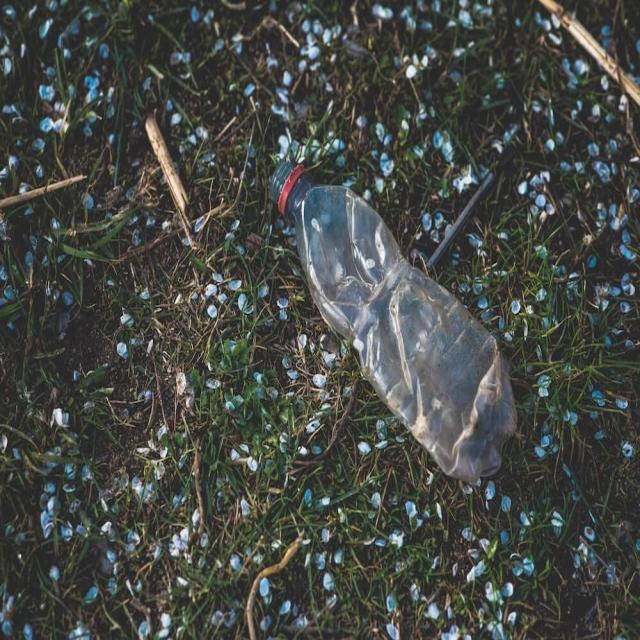plastic bottle: (265, 130, 542, 526)
